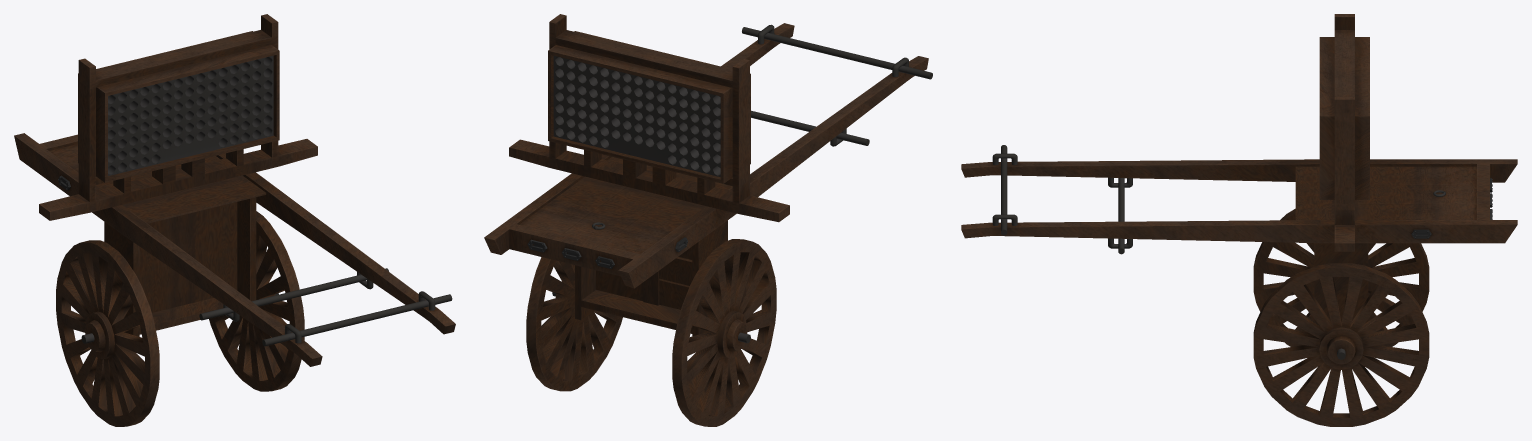
The model's file is SM_Hwacha.fbx.
3 views of the same model, side by side, from view 1: azimuth 30°, elevation 25°; view 2: azimuth 150°, elevation 25°; view 3: azimuth 270°, elevation 25° (orthographic). The views are drawn at different scales.
Parts seen in each view (by area): view 1: SM_Hwacha; view 2: SM_Hwacha; view 3: SM_Hwacha.
Boxes of the visible parts, bbox=[...] form: SM_Hwacha: bbox=[14, 14, 455, 426]; SM_Hwacha: bbox=[484, 14, 932, 426]; SM_Hwacha: bbox=[961, 14, 1517, 426].
Size of the model in its own units: 139 by 267 by 177.
Materials: 1 (1 with a texture image).
